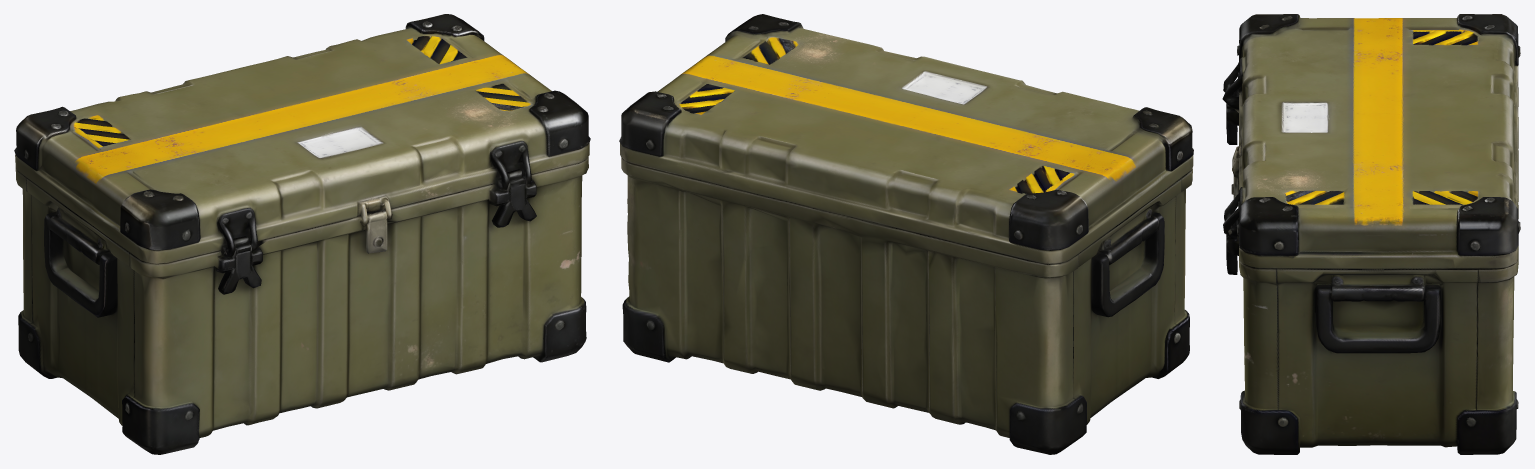
File: SupplyCrate.fbx
3 renders of one model, left to right at view 1: azimuth 30°, elevation 25°; view 2: azimuth 150°, elevation 25°; view 3: azimuth 270°, elevation 25°, orthographic. The views are drawn at different scales.
Visible parts, largest first — view 1: tripo_node_a2205d9b; view 2: tripo_node_a2205d9b; view 3: tripo_node_a2205d9b.
Boxes of the visible parts, x1,y1,x2,y2 form: tripo_node_a2205d9b: (14,14,590,454); tripo_node_a2205d9b: (619,14,1193,454); tripo_node_a2205d9b: (1222,14,1520,454).
Bounding box in the file's own units: 1 × 0.5209 × 0.5765.
Materials: 1 (1 with a texture image).
